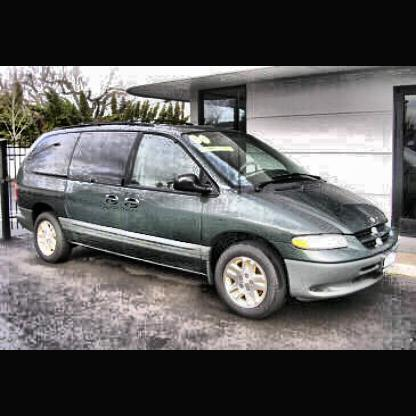Dodge Caravan Minivan 1997: (14, 117, 404, 323)
